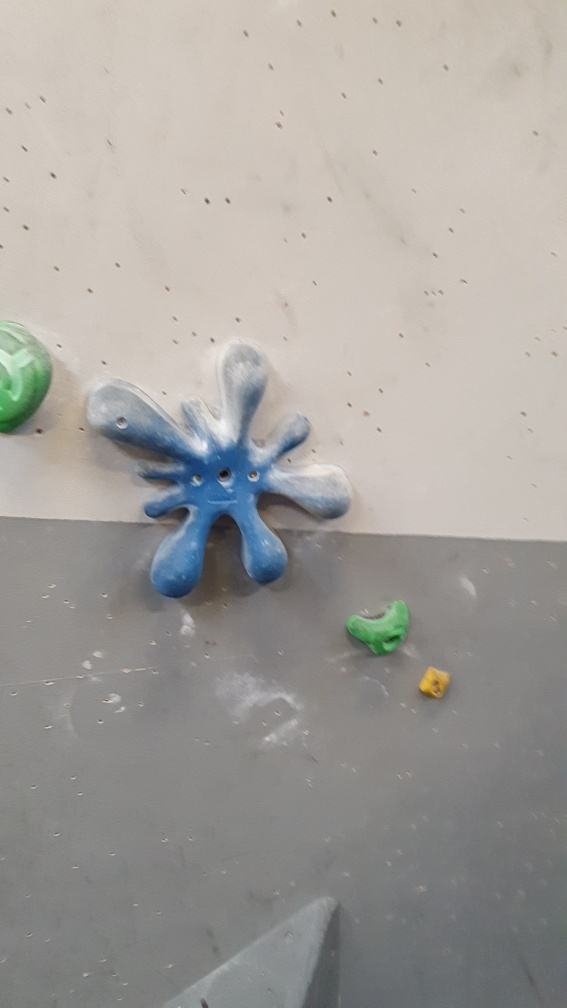Jug: (347, 594, 415, 661)
Octopus Pinch: (85, 339, 354, 605)
